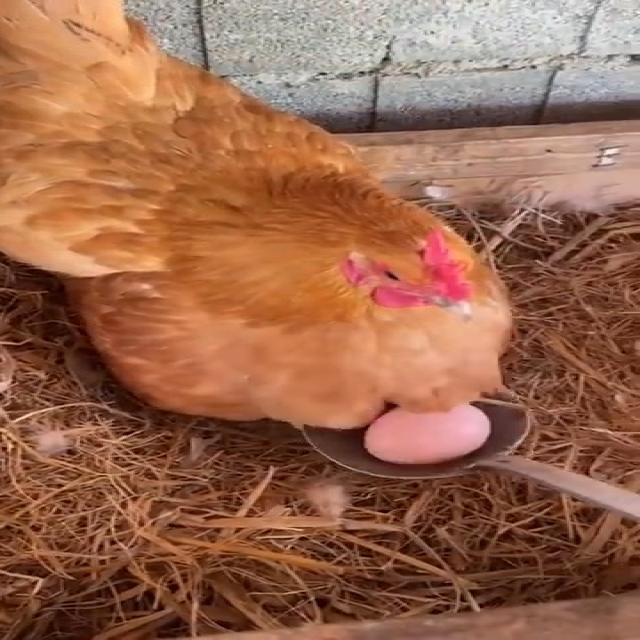crouch chicken: (0, 0, 526, 434)
